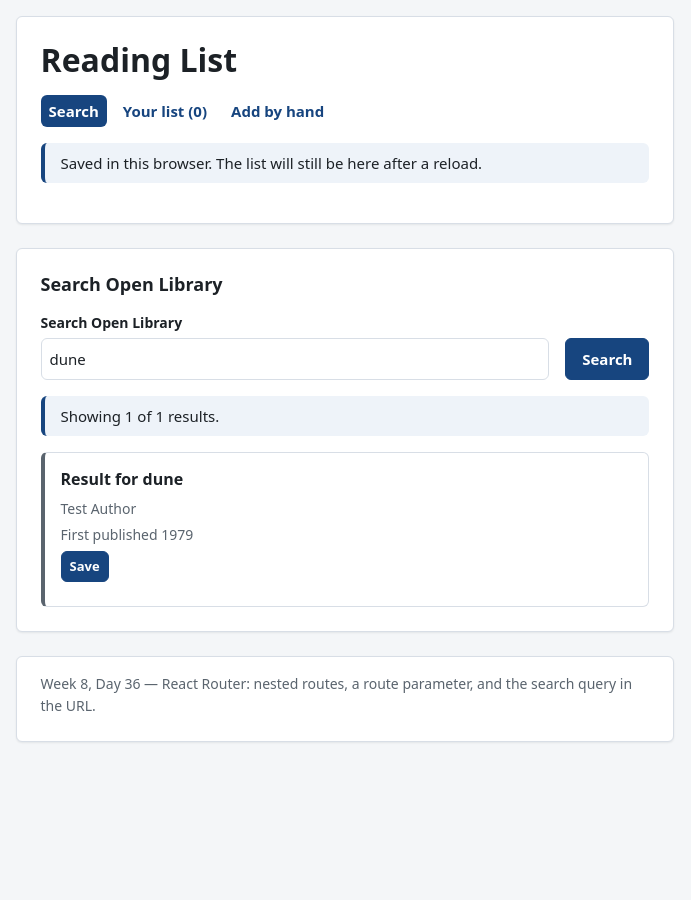
Test: search to list, end to end › changes a status from the detail route and reflects it on the list
Click the button "Save": (85, 566) [60,551,109,582]
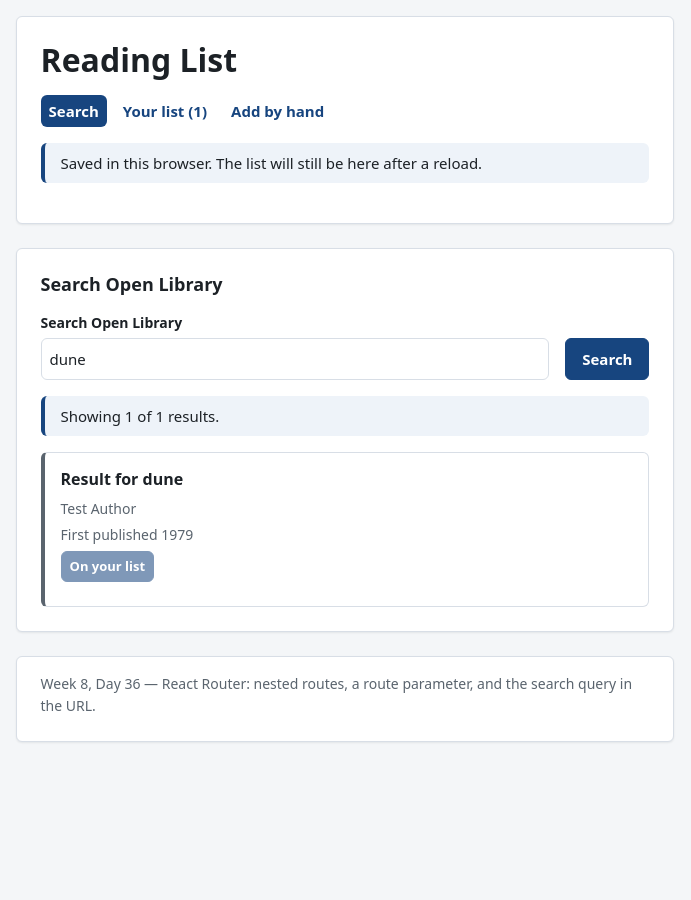
Click the link "Your list (1)": (165, 111) [123,101,207,121]
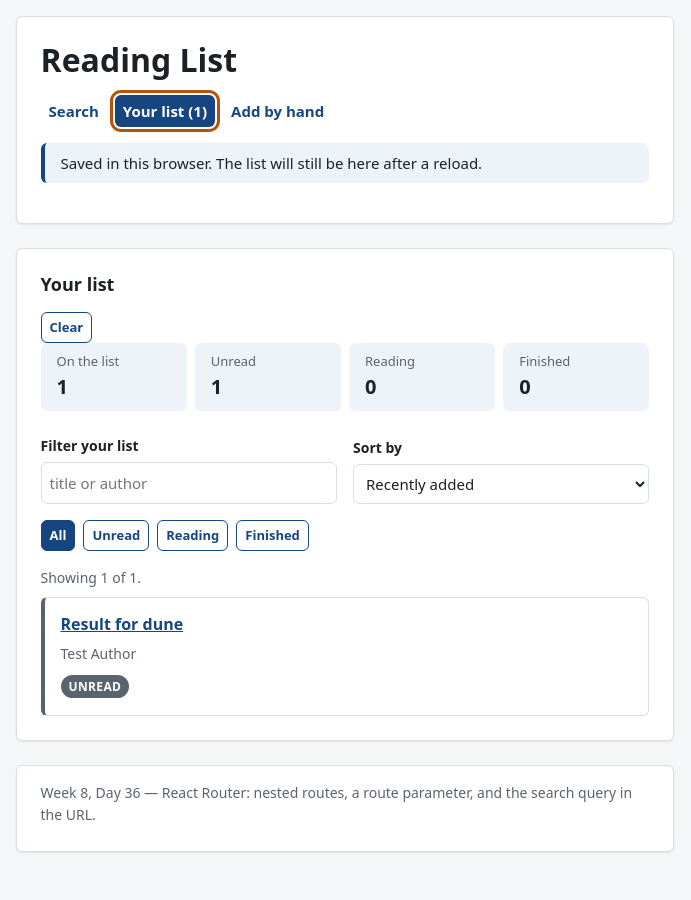
Click the link "Result for dune": (122, 624) [60,613,183,635]
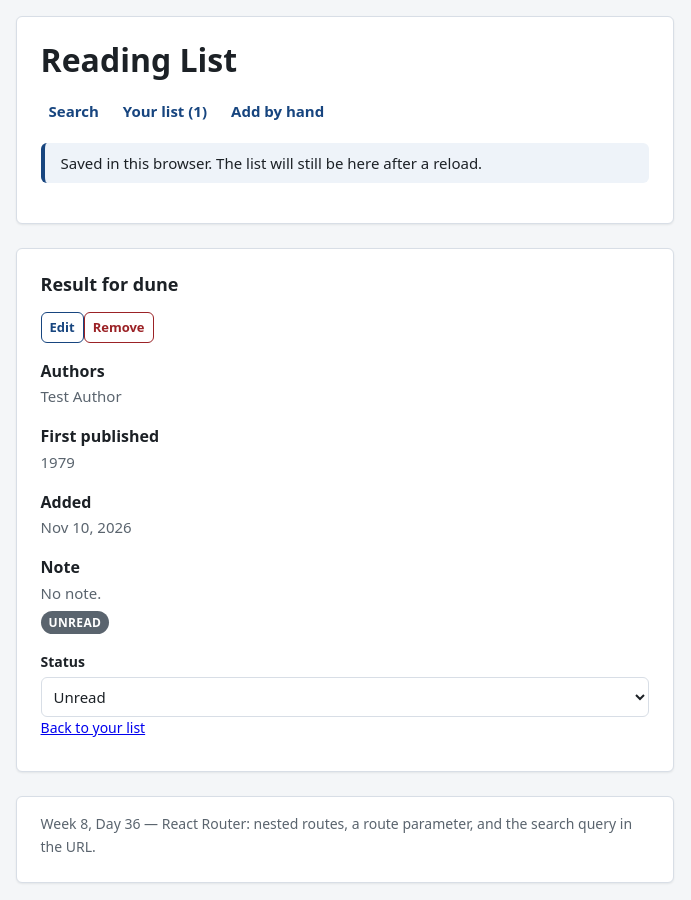
Select "Finished" in the dropdown labelled "Status": (345, 697) [40,677,649,717]
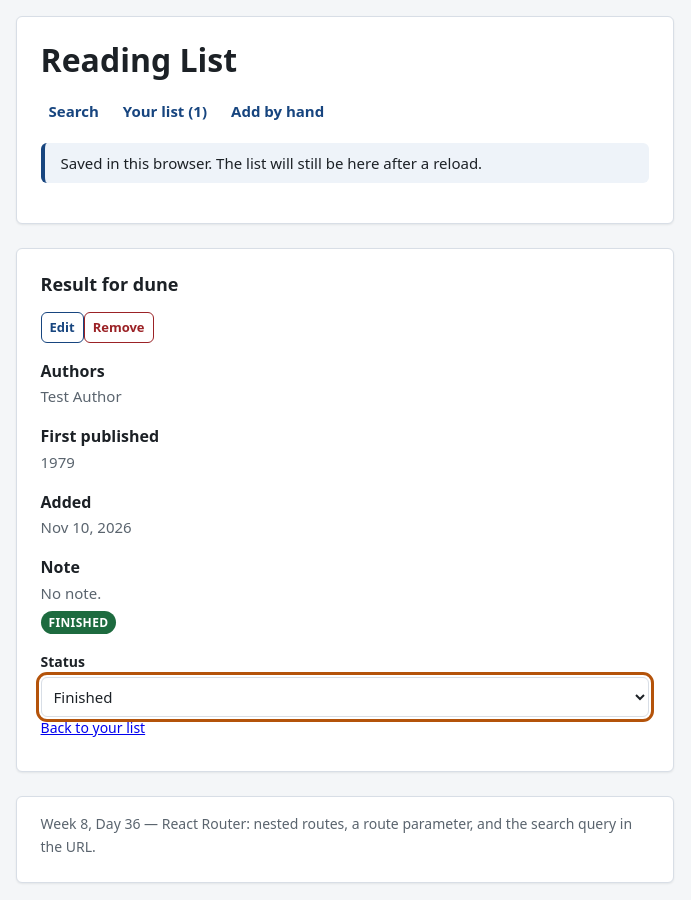
Click the link "Back to your list": (93, 728) [40,718,145,737]
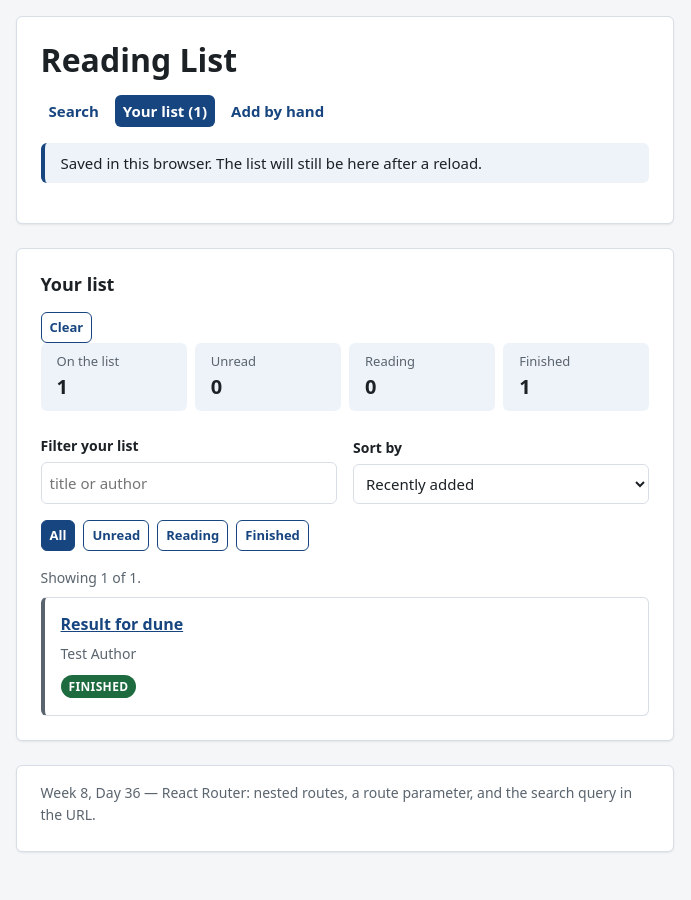
expect the list item "Finished 1" is shown: met, box [503,343,649,412]
